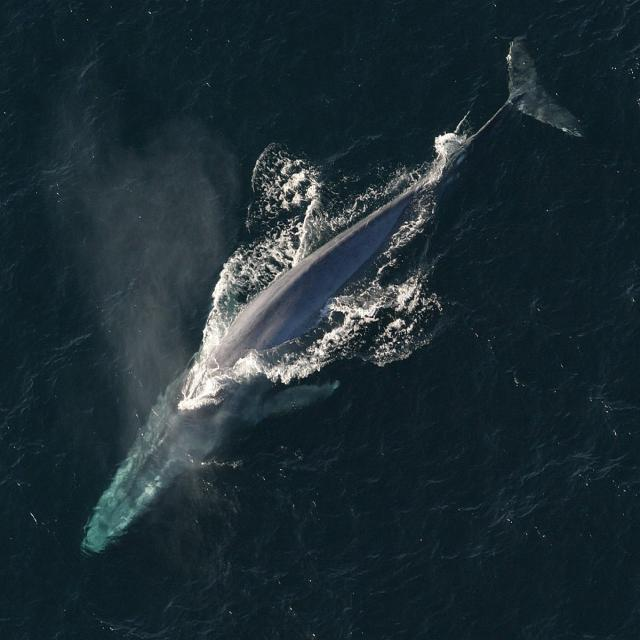blue_whale: (45, 69, 540, 571)
